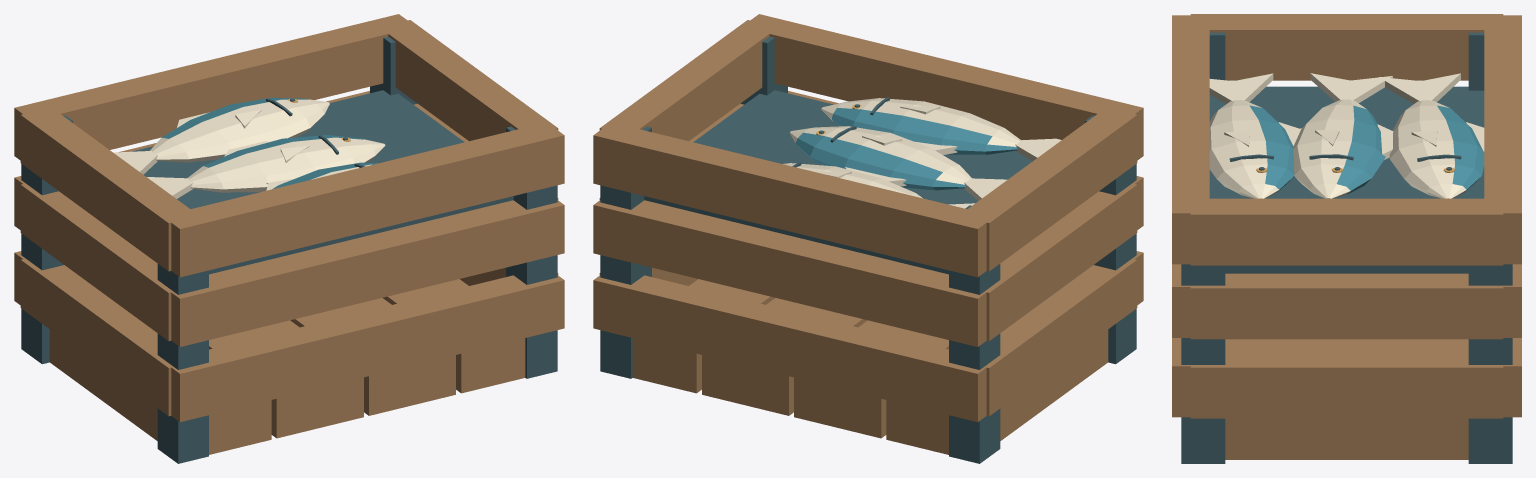
File: AC_Fish_Filled_Crate.glb
The picture shows the model from 3 angles, left to right: view 1: azimuth 30°, elevation 25°; view 2: azimuth 150°, elevation 25°; view 3: azimuth 270°, elevation 25°; orthographic projection. The views are drawn at different scales.
Parts seen in each view (by area): view 1: AC_Fish_Filled_Crate; view 2: AC_Fish_Filled_Crate; view 3: AC_Fish_Filled_Crate.
Part boxes in pixels (left/top/right/bottom): AC_Fish_Filled_Crate: left=14, top=14, right=564, bottom=463; AC_Fish_Filled_Crate: left=593, top=14, right=1143, bottom=463; AC_Fish_Filled_Crate: left=1172, top=14, right=1521, bottom=463.
Bounding box in the file's own units: 0.76 × 0.445 × 0.56.
